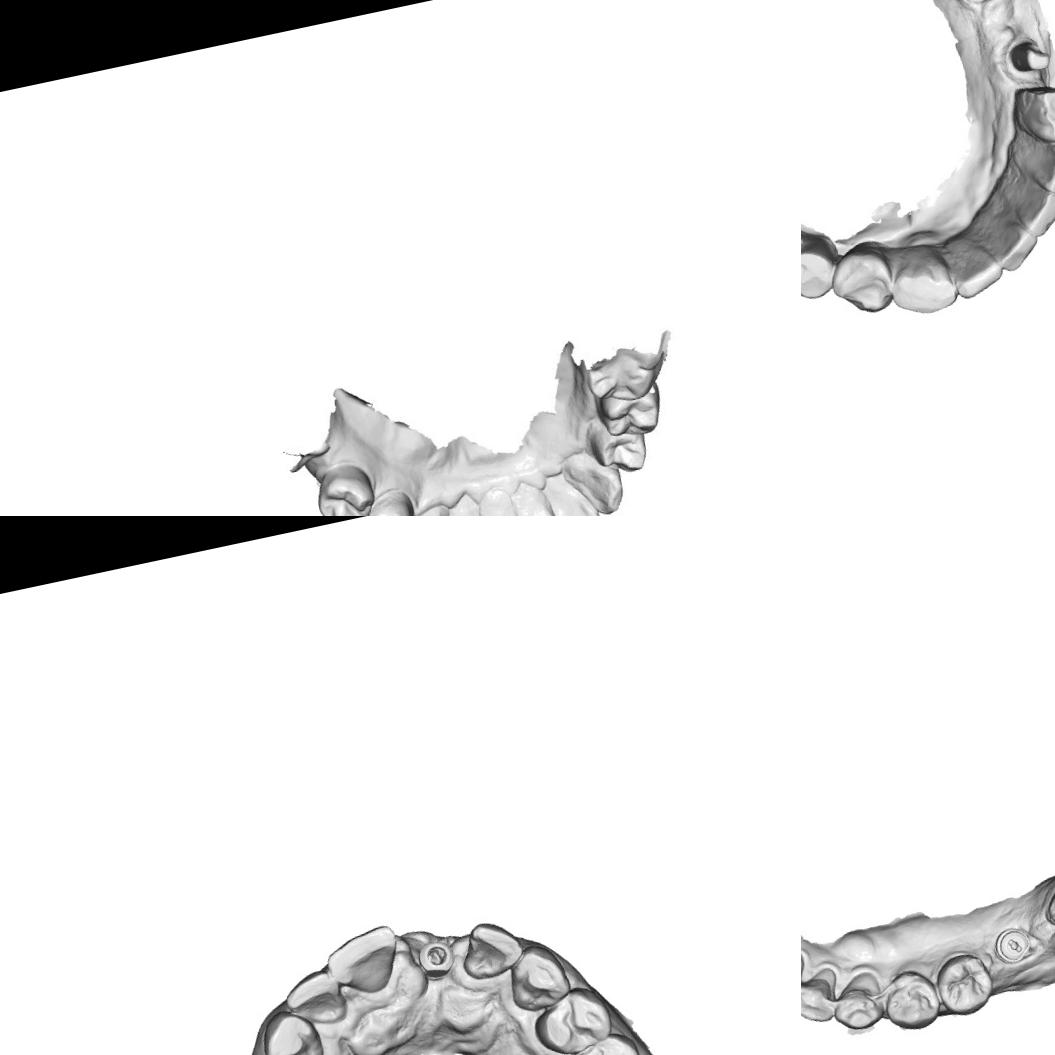abutment: (1005, 31, 1055, 80)
canine: (880, 237, 962, 322), (500, 938, 576, 1017), (826, 966, 889, 1034), (566, 449, 628, 516), (1007, 75, 1055, 155), (254, 1004, 324, 1055)
implant: (412, 934, 457, 980)
implant_minus: (990, 924, 1036, 968)
incisor: (320, 922, 407, 1002), (454, 914, 528, 985), (278, 966, 348, 1032), (946, 235, 1010, 302), (982, 213, 1045, 278), (1010, 177, 1055, 244), (801, 966, 844, 1029), (1020, 134, 1055, 203), (545, 476, 600, 516), (474, 486, 534, 516), (513, 485, 565, 516)
premolar: (526, 979, 620, 1055), (823, 237, 901, 323), (930, 947, 1000, 1021), (878, 965, 945, 1036), (592, 384, 669, 440), (591, 420, 653, 479), (311, 462, 376, 516), (801, 239, 843, 305), (552, 1027, 650, 1055), (359, 492, 418, 516)
